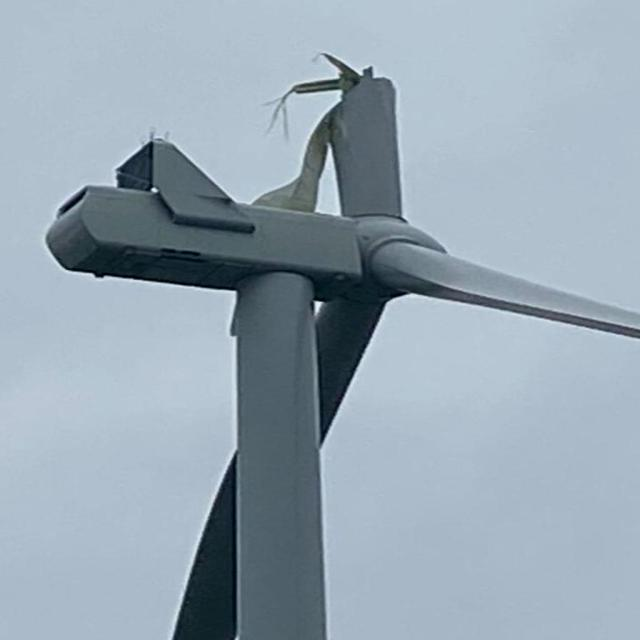crack: (235, 17, 434, 260)
